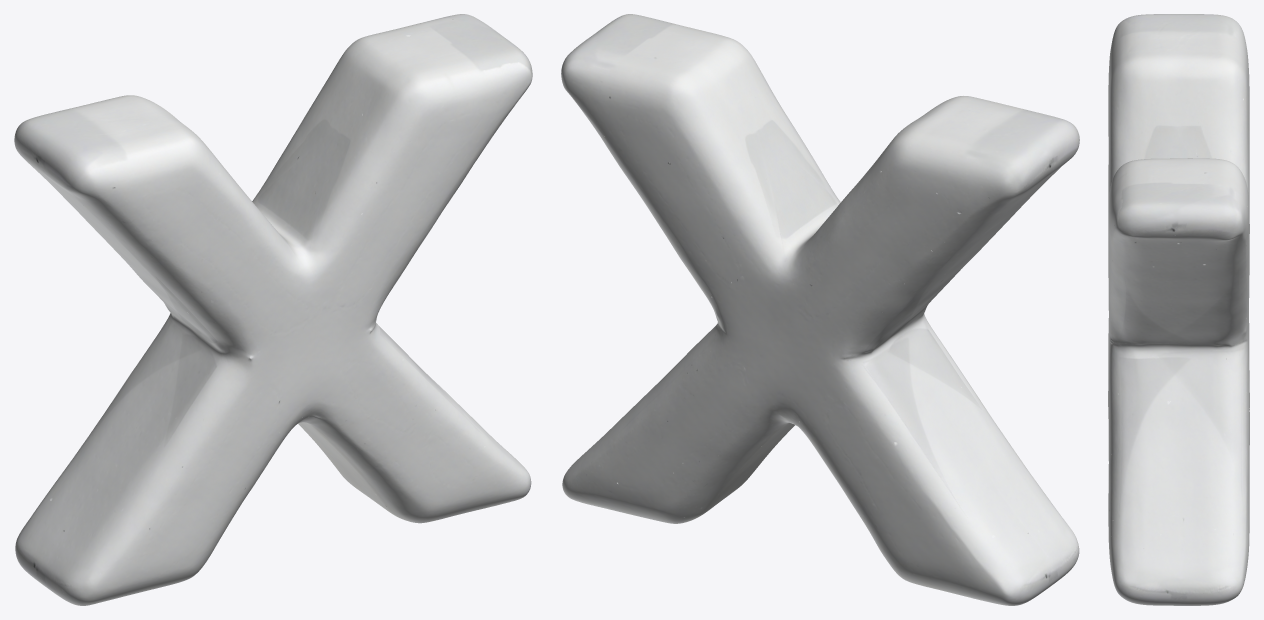
The model's file is Meshy_AI_Creami_il_modello_del_0507173922_texture.glb.
3 renders of one model, left to right at view 1: azimuth 30°, elevation 25°; view 2: azimuth 150°, elevation 25°; view 3: azimuth 270°, elevation 25°, orthographic. The views are drawn at different scales.
Size of the model in its own units: 2 by 1.86 by 0.5929.
1 material, 1 textured.
